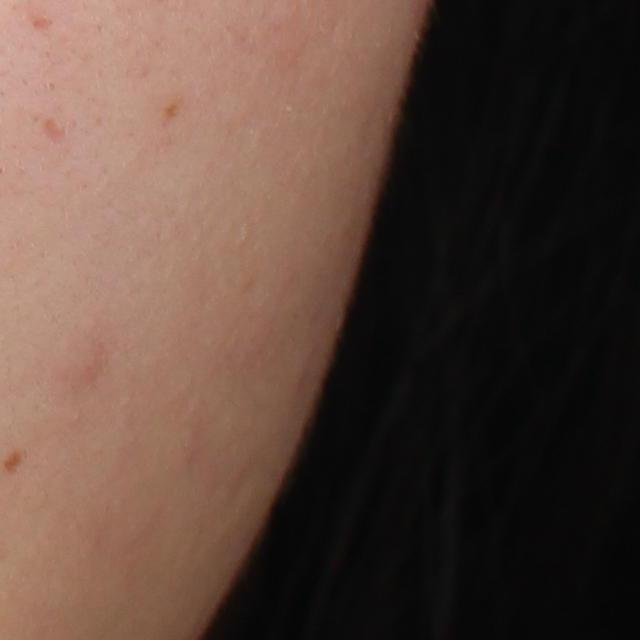atrophic_scar: (36, 115, 72, 149), (33, 16, 56, 32)
nevus: (2, 448, 28, 476)
